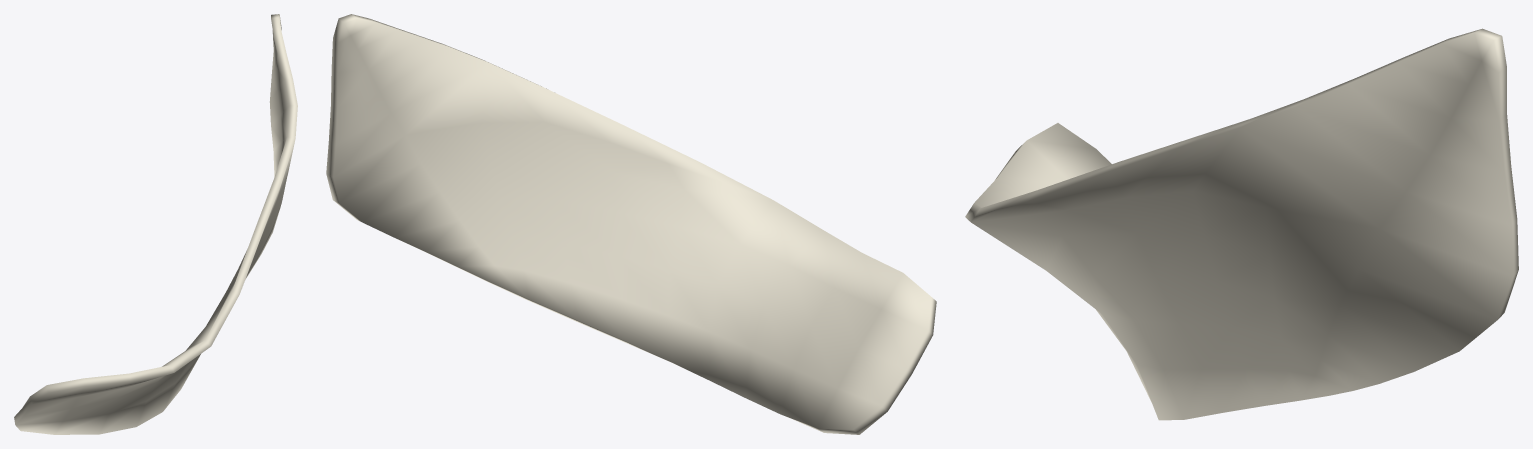
3 views of the same model, side by side, from view 1: azimuth 30°, elevation 25°; view 2: azimuth 150°, elevation 25°; view 3: azimuth 270°, elevation 25° (orthographic). The views are drawn at different scales.
Parts seen in each view (by area): view 1: ZA_da4e4b098d9600c3; view 2: ZA_da4e4b098d9600c3; view 3: ZA_da4e4b098d9600c3.
Part boxes in pixels (<box>): ZA_da4e4b098d9600c3: <box>14,14,297,434</box>; ZA_da4e4b098d9600c3: <box>326,14,936,434</box>; ZA_da4e4b098d9600c3: <box>965,28,1518,420</box>.
Size of the model in its own units: 0.0239 by 0.0192 by 0.0161.
